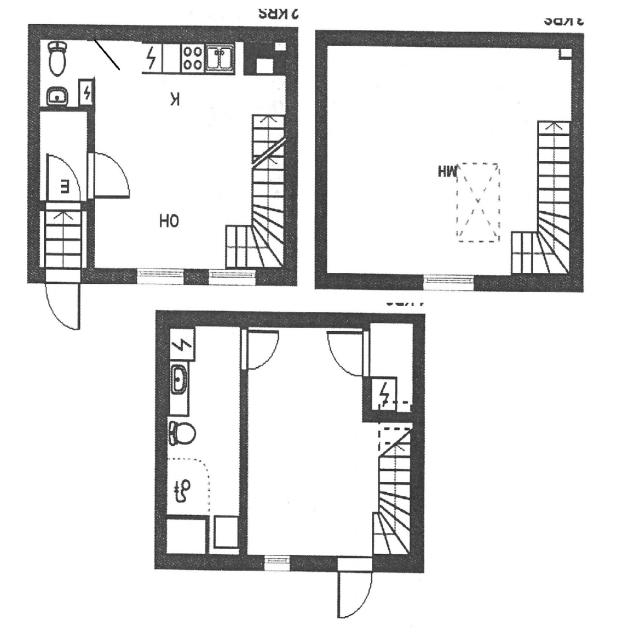door: (332, 554, 379, 623), (85, 142, 135, 200), (42, 268, 84, 334), (324, 326, 368, 379), (43, 145, 83, 203), (242, 326, 282, 372)
window: (419, 271, 482, 296), (130, 266, 188, 289), (203, 266, 260, 286), (260, 553, 294, 575)
zone: (319, 44, 571, 282), (90, 29, 288, 276), (244, 323, 376, 567), (160, 319, 243, 563), (366, 319, 418, 416), (39, 38, 89, 108)
